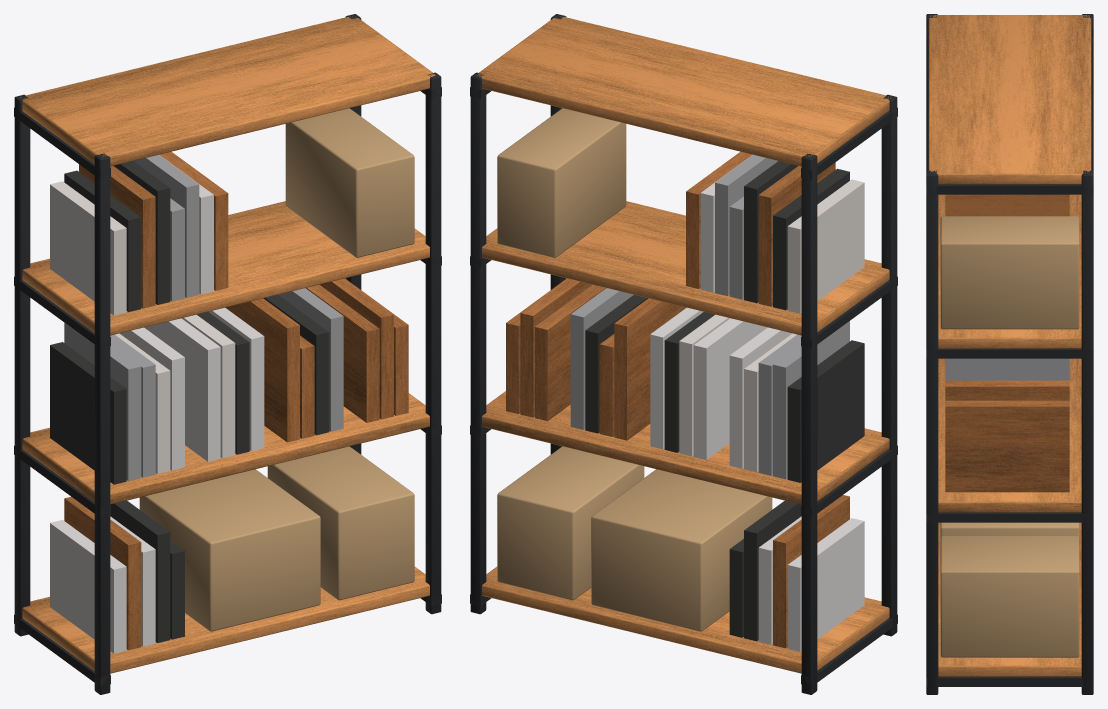
The model's file is storage.open-shelf-small.glb.
3 renders of one model, left to right at view 1: azimuth 30°, elevation 25°; view 2: azimuth 150°, elevation 25°; view 3: azimuth 270°, elevation 25°, orthographic. The views are drawn at different scales.
Parts seen in each view (by area): view 1: storage.open-shelf-small.001; view 2: storage.open-shelf-small.001; view 3: storage.open-shelf-small.001.
Boxes of the visible parts, x1,y1,x2,y2 form: storage.open-shelf-small.001: [14, 14, 441, 694]; storage.open-shelf-small.001: [470, 14, 897, 694]; storage.open-shelf-small.001: [926, 14, 1093, 694].
Bounding box in the file's own units: 0.8 × 1.2 × 0.35.
8 materials, 2 textured.
